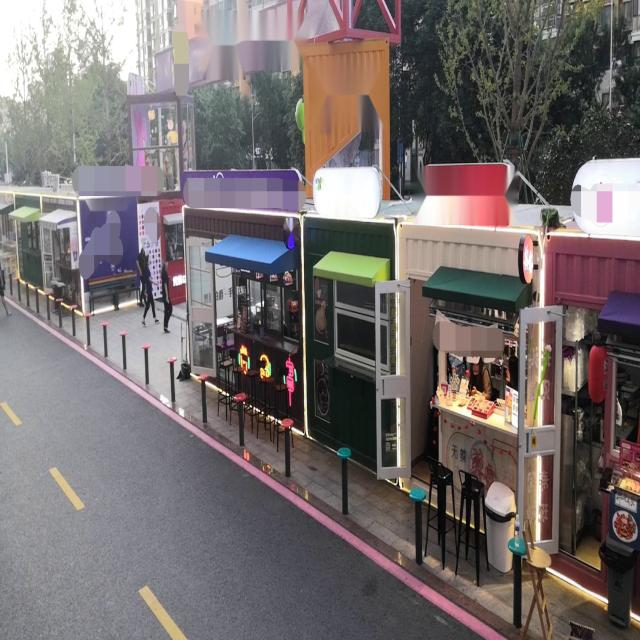fixed_stall: (412, 160, 533, 438), (180, 166, 304, 363), (573, 158, 636, 541)
sunshade: (422, 264, 532, 314), (204, 233, 298, 275), (312, 249, 390, 288), (597, 291, 638, 339), (38, 207, 76, 232), (8, 204, 40, 223), (163, 212, 182, 226)
